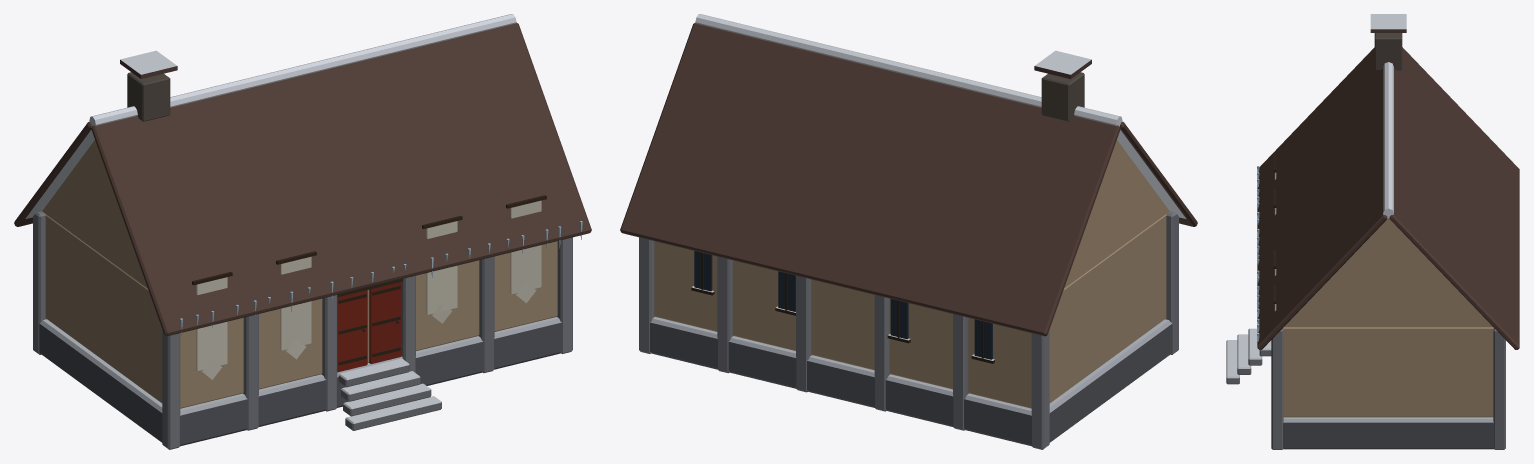
File: village_meeting_hall.glb
The picture shows the model from 3 angles, left to right: view 1: azimuth 30°, elevation 25°; view 2: azimuth 150°, elevation 25°; view 3: azimuth 270°, elevation 25°; orthographic projection. The views are drawn at different scales.
Parts seen in each view (by area): view 1: village_meeting_hall; view 2: village_meeting_hall; view 3: village_meeting_hall.
Boxes of the visible parts, x1=… form: village_meeting_hall: x1=14, y1=14, x2=591, y2=449; village_meeting_hall: x1=620, y1=14, x2=1197, y2=449; village_meeting_hall: x1=1226, y1=14, x2=1519, y2=449.
Size of the model in its own units: 15.2 by 11.12 by 10.58.
